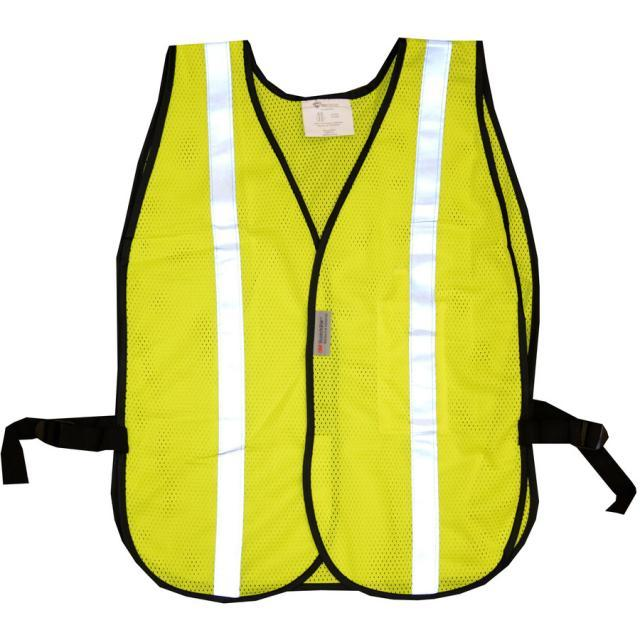reflective_jacket: (7, 25, 609, 609)
